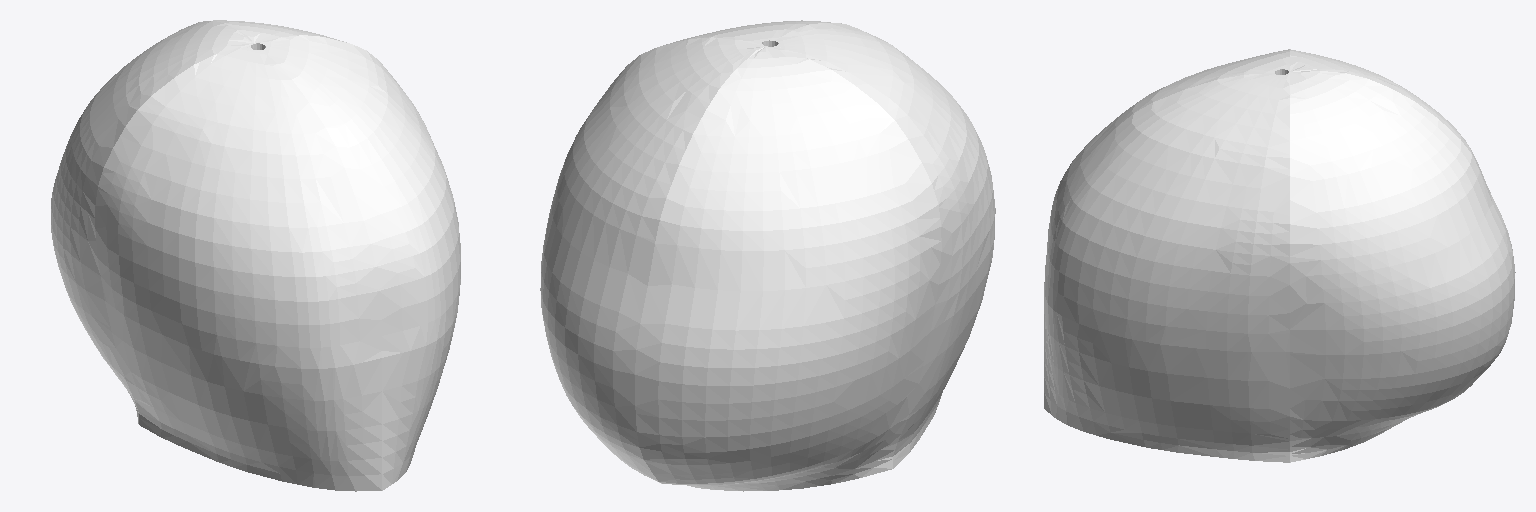
robot.urdf — Part41:
<robot
  name="Part41">
  <link
    name="Part41">
    <inertial>
      <origin
        xyz="-1.9816E-06 -0.000311299999999999 0.010597"
        rpy="0 0 0" />
      <mass
        value="8.8004" />
      <inertia
        ixx="0.068997768035568"
        ixy="1.46895650238801E-07"
        ixz="7.97868588896992E-07"
        iyy="0.0497493214348372"
        iyz="-0.00175956734963524"
        izz="0.0629449029483302" />
    </inertial>
    <visual>
      <origin
        xyz="0 0 0"
        rpy="1.5707963267949 0 0" />
      <geometry>
        <mesh
          filename="package://Part41/meshes/Part41.STL" />
      </geometry>
      <material
        name="">
        <color
          rgba="1 1 1 1" />
      </material>
    </visual>
    <collision>
      <origin
        xyz="0 0 0"
        rpy="1.5707963267949 0 0" />
      <geometry>
        <mesh
          filename="package://Part41/meshes/Part41.STL" />
      </geometry>
    </collision>
  </link>
</robot>

--- Render facts (derived) ---
Views: 3 orthographic renders of the robot side by side, from view 1: azimuth 30°, elevation 25°; view 2: azimuth 150°, elevation 25°; view 3: azimuth 270°, elevation 25°.
Robot: Part41 — 1 links, 0 joints (none); root link Part41; default pose: every joint at zero.
Links seen in each view (by area): view 1: Part41; view 2: Part41; view 3: Part41.
Boxes of the visible links, x1,y1,x2,y2 form: Part41: (51, 20, 460, 491); Part41: (540, 20, 995, 491); Part41: (1044, 49, 1515, 462).
Bounding box of the posed robot: 0.2183 × 0.2939 × 0.233 m (x, y, z).
1 mesh visuals loaded from 1 distinct referenced files (1 binary STL).